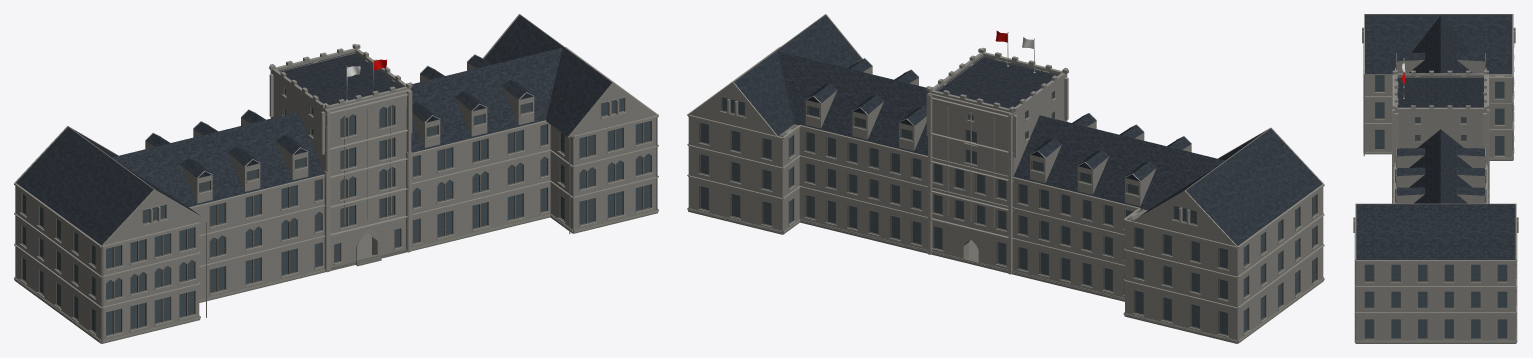
3 renders of one model, left to right at view 1: azimuth 30°, elevation 25°; view 2: azimuth 150°, elevation 25°; view 3: azimuth 270°, elevation 25°, orthographic. The views are drawn at different scales.
Parts seen in each view (by area): view 1: koreaMain__stone, koreaMain__roof, koreaMain__glass, koreaMain__cream, koreaMain__frame, koreaMain__rough; view 2: koreaMain__stone, koreaMain__roof, koreaMain__cream, koreaMain__glass, koreaMain__frame, koreaMain__rough; view 3: koreaMain__roof, koreaMain__stone, koreaMain__cream, koreaMain__glass, koreaMain__frame, koreaMain__rough.
Boxes of the visible parts, left/top/right/bottom form: koreaMain__stone: left=15, top=44, right=657, bottom=339; koreaMain__roof: left=16, top=15, right=611, bottom=245; koreaMain__glass: left=22, top=88, right=650, bottom=334; koreaMain__cream: left=14, top=14, right=658, bottom=342; koreaMain__frame: left=20, top=87, right=651, bottom=336; koreaMain__rough: left=14, top=14, right=658, bottom=343; koreaMain__stone: left=688, top=47, right=1323, bottom=340; koreaMain__roof: left=734, top=15, right=1322, bottom=245; koreaMain__cream: left=687, top=14, right=1324, bottom=342; koreaMain__glass: left=700, top=92, right=1315, bottom=334; koreaMain__frame: left=699, top=90, right=1317, bottom=335; koreaMain__rough: left=688, top=14, right=1323, bottom=343; koreaMain__roof: left=1356, top=14, right=1515, bottom=259; koreaMain__stone: left=1353, top=27, right=1518, bottom=340; koreaMain__cream: left=1354, top=14, right=1517, bottom=342; koreaMain__glass: left=1365, top=75, right=1506, bottom=338; koreaMain__frame: left=1364, top=60, right=1516, bottom=339; koreaMain__rough: left=1355, top=14, right=1516, bottom=343.
Bounding box in the file's own units: 75.2 × 25.38 × 22.67.
Materials: 10 (4 with a texture image).
